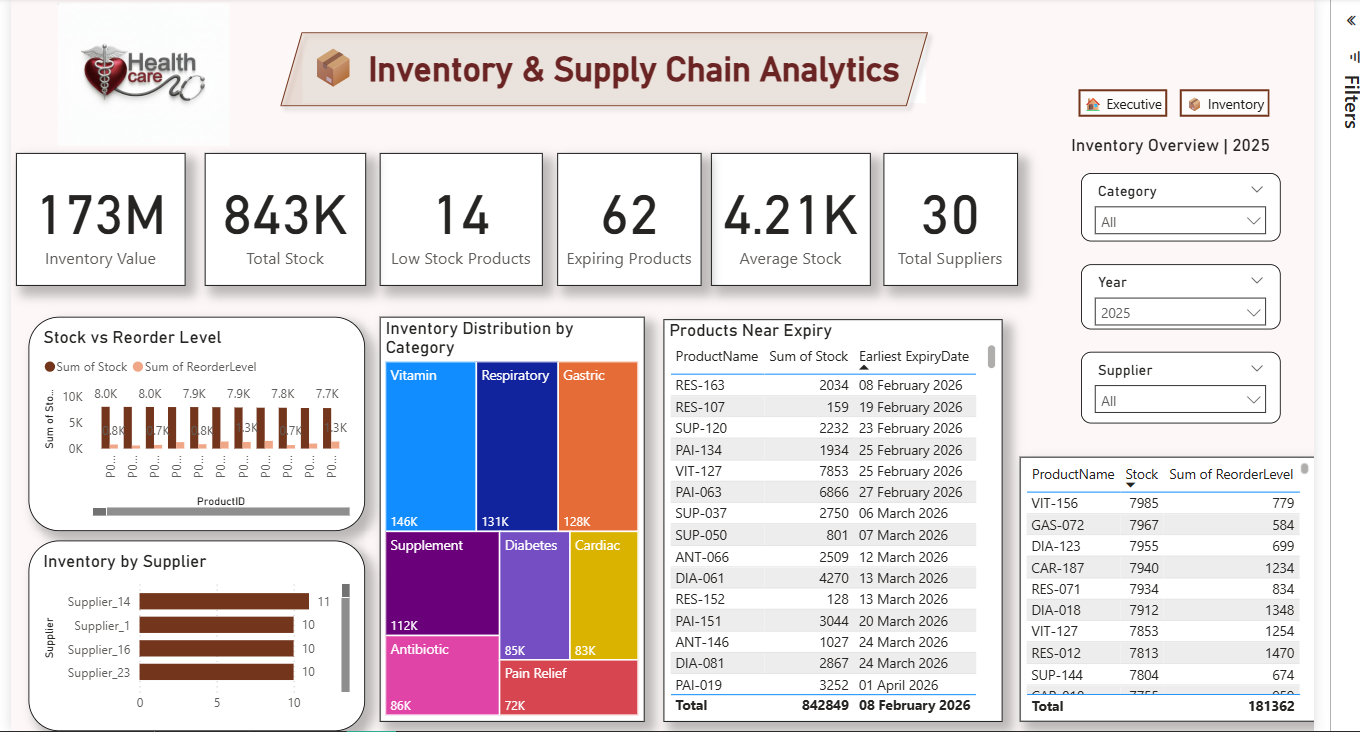

This screenshot's page, from the dashboard's own definition file:
{"tool":"powerbi","page":{"name":"Page 3","canvas":[1280,720],"ordinal":1},"visuals":[{"type":"textbox","box":[285.9,36.8,612.3,66.3],"z":0},{"type":"card","fields":{"Values":["Measures (3).Inventory Value"]},"box":[5,151.7,166.7,130],"z":1000},{"type":"card","fields":{"Values":["Measures (3).Average Stock"]},"box":[686.7,151.7,156.7,130],"z":2000},{"type":"card","fields":{"Values":["Measures (3).Total Suppliers"]},"box":[856.7,151.7,131.7,130],"z":3000},{"type":"card","fields":{"Values":["Measures (3).Low Stock Products"]},"box":[361.7,151.7,160,130],"z":4000},{"type":"card","fields":{"Values":["Measures (3).Expiring Products"]},"box":[536.7,151.7,141.7,130],"z":5000},{"type":"card","fields":{"Values":["Measures (3).Total Stock"]},"box":[190,151.7,158.3,130],"z":6000},{"type":"clusteredColumnChart","title":"Stock vs Reorder Level","fields":{"Category":["Inventory.ProductID"],"Y":["Sum(Inventory.Stock)","Sum(Inventory.ReorderLevel)"]},"box":[17.5,312.5,330,210],"z":7000},{"type":"treemap","title":"Inventory Distribution by Category","fields":{"Group":["Products.Category"],"Values":["Sum(Inventory.Stock)"]},"box":[362.5,312.5,260,397.5],"z":8000},{"type":"clusteredBarChart","title":"Inventory by Supplier","fields":{"Category":["Inventory.Supplier"],"Y":["CountNonNull(Inventory.Stock)"]},"box":[17.5,532.5,330,187.5],"z":9000},{"type":"tableEx","fields":{"Values":["Products.ProductName","Inventory.Stock","Sum(Inventory.ReorderLevel)"]},"box":[990,450,290,260],"z":10000},{"type":"tableEx","title":"Products Near Expiry","fields":{"Values":["Products.ProductName","Sum(Inventory.Stock)","Inventory.ExpiryDate"]},"box":[640,315,332.5,395],"z":11000},{"type":"slicer","box":[1321.7,181.7,261.7,113.3],"z":12000},{"type":"slicer","fields":{"Values":["Products.Category"]},"box":[1050,171.4,195.7,67.1],"z":13000},{"type":"slicer","fields":{"Values":["DateTable.Year"]},"box":[1050,261.4,195.7,64.3],"z":14000},{"type":"slicer","fields":{"Values":["Inventory.Supplier"]},"box":[1050,347.1,195.7,70],"z":15000},{"type":"shape","box":[255.2,24.5,654,90.8],"z":16000},{"type":"card","fields":{"Values":["Measures (3).Inventory Subtitle"]},"box":[1012.3,128.8,252.8,31.9],"z":17000},{"type":"actionButton","title":"📦 Inventory","box":[1147.2,89.6,88.3,27],"z":18000},{"type":"actionButton","box":[1047.9,89.6,87.1,27],"z":19000}]}

Visuals, with their boxes on the page's 1280x720 design canvas (x1, y1, x2, y2). These are canvas units, not pixel positions in the 1360x732 screenshot, which may show the page scaled, cropped or inside an application window:
textbox: (286, 37, 898, 103)
card - Measures (3).Inventory Value: (5, 152, 172, 282)
card - Measures (3).Average Stock: (687, 152, 843, 282)
card - Measures (3).Total Suppliers: (857, 152, 988, 282)
card - Measures (3).Low Stock Products: (362, 152, 522, 282)
card - Measures (3).Expiring Products: (537, 152, 678, 282)
card - Measures (3).Total Stock: (190, 152, 348, 282)
"Stock vs Reorder Level" clusteredColumnChart: (18, 312, 348, 522)
"Inventory Distribution by Category" treemap: (362, 312, 622, 710)
"Inventory by Supplier" clusteredBarChart: (18, 532, 348, 720)
tableEx - Products.ProductName x Inventory.Stock: (990, 450, 1280, 710)
"Products Near Expiry" tableEx: (640, 315, 972, 710)
slicer: (1322, 182, 1583, 295)
slicer - Products.Category: (1050, 171, 1246, 238)
slicer - DateTable.Year: (1050, 261, 1246, 326)
slicer - Inventory.Supplier: (1050, 347, 1246, 417)
shape: (255, 24, 909, 115)
card - Measures (3).Inventory Subtitle: (1012, 129, 1265, 161)
"📦 Inventory" actionButton: (1147, 90, 1236, 117)
actionButton: (1048, 90, 1135, 117)
